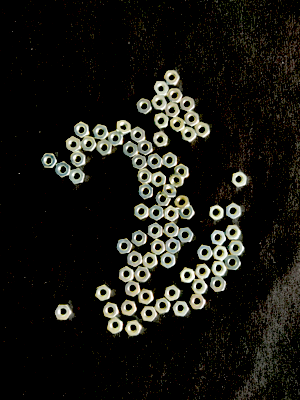nut: (54, 304, 72, 321), (102, 302, 120, 319), (120, 300, 138, 317), (107, 317, 124, 334), (134, 266, 151, 283), (95, 284, 111, 302), (189, 294, 207, 310), (125, 321, 142, 337), (140, 306, 157, 322), (154, 298, 171, 314), (125, 281, 141, 298), (164, 285, 180, 302), (172, 301, 189, 317), (179, 268, 196, 284), (210, 261, 227, 277), (197, 245, 214, 261), (225, 225, 242, 241), (127, 251, 143, 268), (116, 239, 133, 255), (150, 239, 166, 256), (163, 222, 180, 238), (55, 162, 72, 178), (69, 169, 86, 185), (70, 151, 86, 168), (74, 122, 90, 139), (96, 140, 113, 156), (108, 130, 124, 147), (162, 152, 178, 169), (136, 98, 152, 115), (227, 241, 245, 256), (138, 289, 154, 305), (210, 277, 226, 293), (225, 255, 241, 271), (213, 245, 229, 261), (226, 203, 242, 219), (119, 267, 135, 283), (138, 184, 154, 200), (151, 172, 167, 188), (131, 154, 147, 170), (81, 136, 97, 152), (152, 131, 168, 147), (153, 113, 169, 129), (195, 122, 211, 138), (194, 264, 211, 279), (210, 230, 227, 245), (143, 252, 158, 269), (161, 252, 176, 269), (132, 230, 147, 247), (41, 153, 58, 168), (148, 153, 163, 170), (131, 127, 146, 144), (185, 111, 200, 128), (153, 81, 170, 96), (209, 205, 224, 221), (231, 172, 247, 187), (166, 238, 181, 254), (148, 223, 163, 239), (178, 228, 194, 243), (134, 204, 149, 220), (149, 205, 164, 221), (164, 206, 179, 222), (170, 172, 185, 188), (137, 169, 152, 185), (66, 137, 81, 153), (93, 125, 109, 140), (116, 120, 131, 136), (123, 142, 138, 158), (138, 140, 153, 156), (181, 127, 197, 142), (170, 117, 185, 133), (180, 96, 195, 112), (165, 102, 180, 118), (152, 96, 168, 111), (167, 88, 183, 103), (164, 70, 180, 85), (191, 280, 208, 294), (175, 195, 190, 210), (174, 164, 189, 179), (179, 206, 195, 220), (155, 192, 171, 206), (161, 185, 176, 199)
